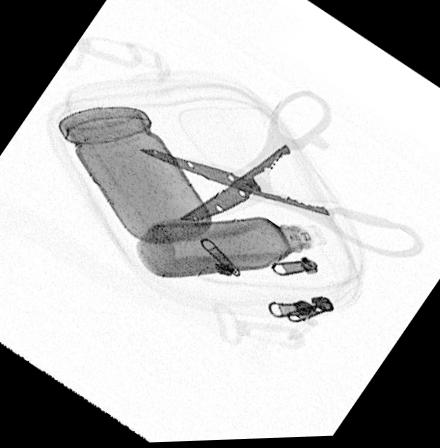Scissors: (138, 91, 424, 261)
